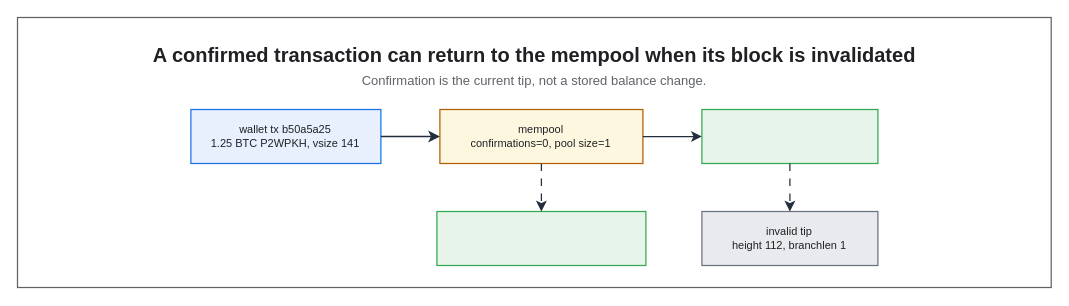
Some shapes in this 1069 by 306 pixel diagram are drawn without their labels. Each missing label, with the centre of its shape:
"active tip 113 6d72f32e after two new blocks" belongs at (x=541, y=238).
"block 112 20fcf935, nTx=2" belongs at (x=789, y=136).
